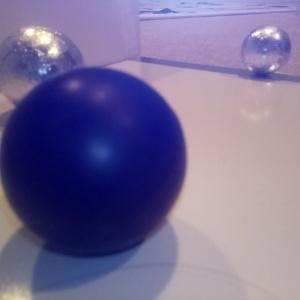alive_ball: (1, 26, 84, 112), (240, 26, 291, 77)
dead_ball: (1, 69, 186, 253)
